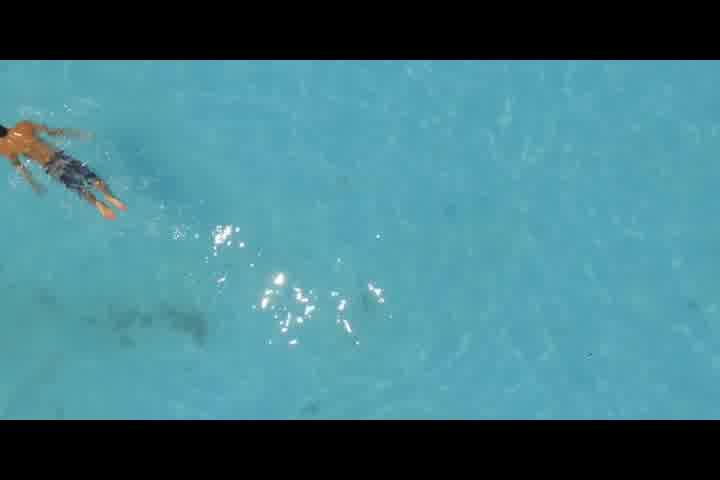human: (0, 111, 143, 220)
